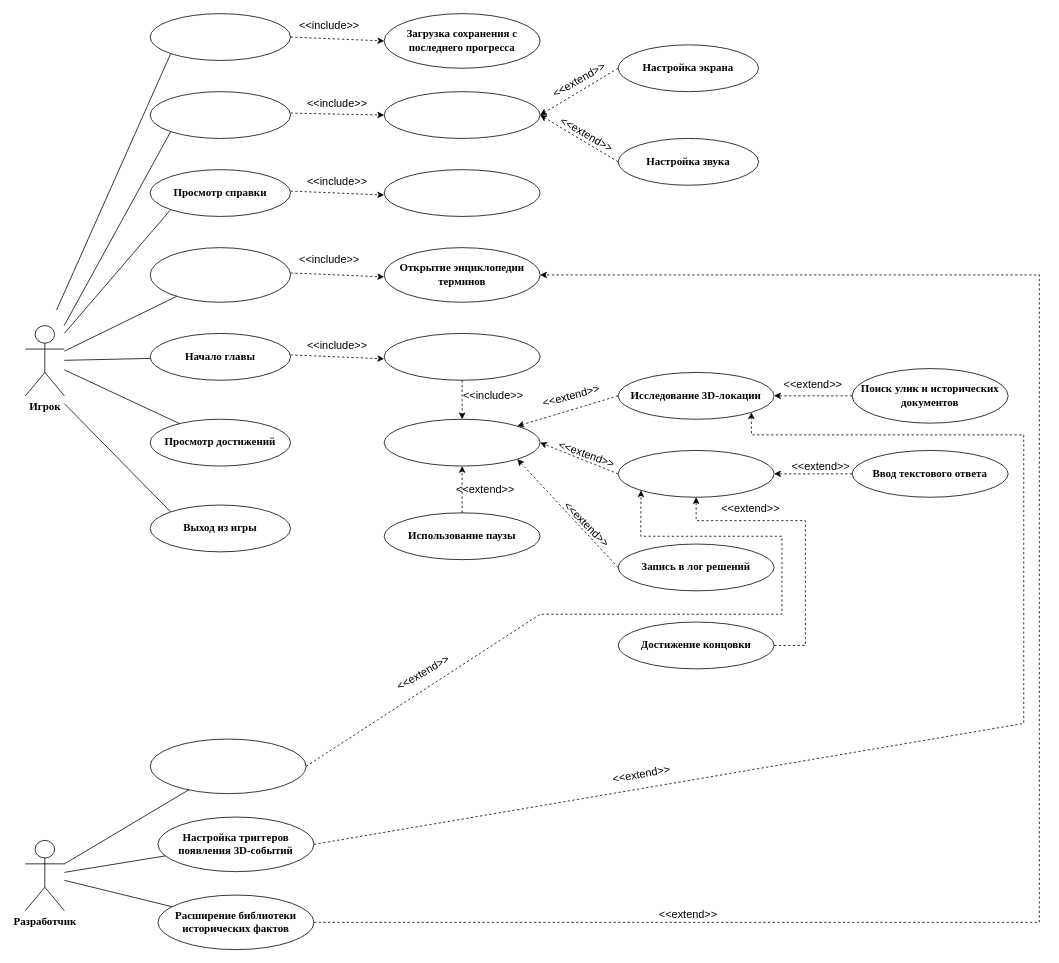
The diagram is 1059 pixels wide and 963 high, and some of its shapes have lost their labels. The centre of each missing label's shape, as x and y in pixels:
"Диалог с персонажами" goes at [461,356].
"Игровой процесс" goes at [461,442].
"Изменение параметров настроек" goes at [461,114].
"Историческая проверка" goes at [695,473].
"Настройка игры" goes at [220,114].
"Продолжить игру" goes at [220,36].
"Просмотр архива исторических материалов" goes at [220,274].
"Просмотр информации о продукте" goes at [461,192].
"Регулировка сложности исторических проверок" goes at [227,766].
